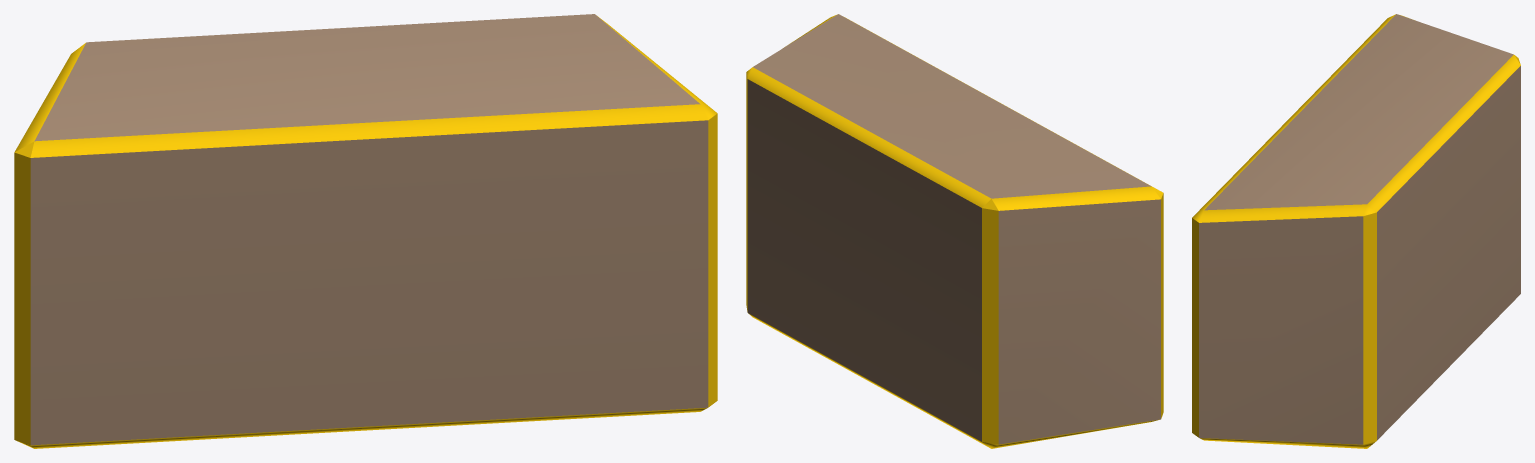
The model's file is OrangeL1.fbx.
3 renders of one model, left to right at view 1: azimuth 30°, elevation 25°; view 2: azimuth 150°, elevation 25°; view 3: azimuth 270°, elevation 25°, orthographic. The views are drawn at different scales.
Parts seen in each view (by area): view 1: polySurface64; view 2: polySurface64; view 3: polySurface64.
Part boxes in pixels (left/top/right/bottom): polySurface64: left=14, top=14, right=717, bottom=448; polySurface64: left=746, top=14, right=1163, bottom=448; polySurface64: left=1192, top=14, right=1520, bottom=448.
Bounding box in the file's own units: 1.6 × 0.8798 × 1.07.
